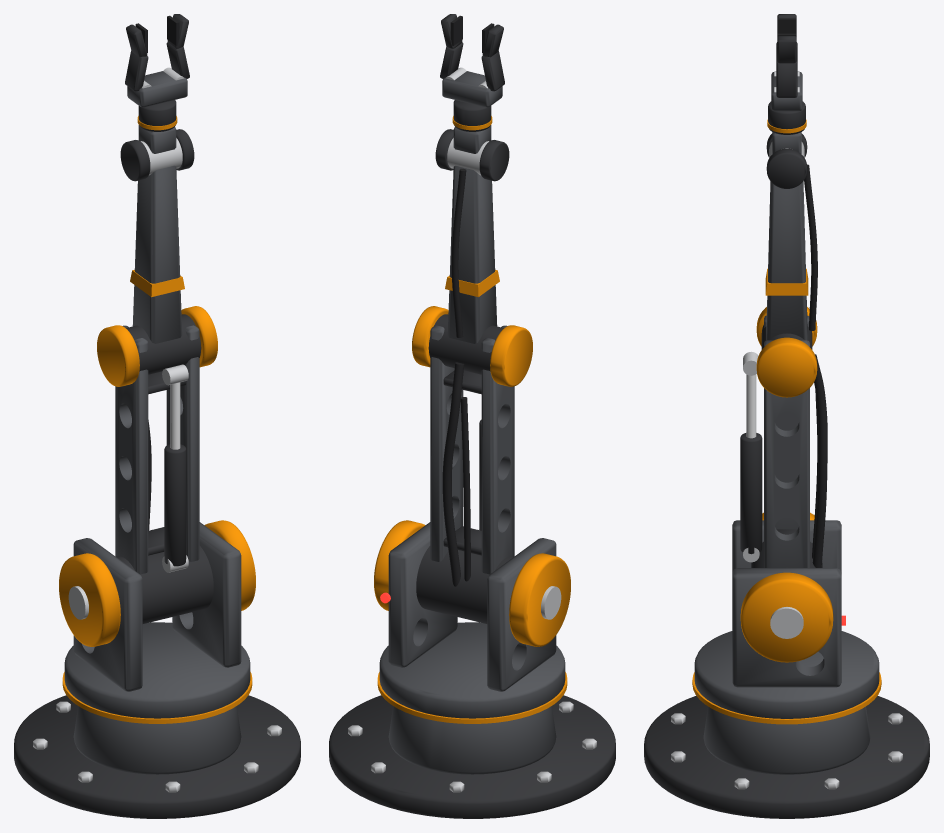
Rendered from dume.glb.
3 renders of one model, left to right at view 1: azimuth 30°, elevation 25°; view 2: azimuth 150°, elevation 25°; view 3: azimuth 270°, elevation 25°, orthographic.
Visible parts, largest first — view 1: dume_yaw, dume_base, dume_upper, dume_fore, dume_roll, dume_wrist, dume_finger_b, dume_finger_a; view 2: dume_yaw, dume_base, dume_upper, dume_fore, dume_roll, dume_wrist, dume_finger_b, dume_finger_a; view 3: dume_base, dume_yaw, dume_upper, dume_fore, dume_roll, dume_finger_a, dume_wrist.
Boxes of the visible parts, x1,y1,x2,y2 form: dume_yaw: (59, 520, 255, 723); dume_base: (14, 695, 300, 818); dume_upper: (97, 306, 217, 623); dume_fore: (120, 129, 201, 374); dume_roll: (127, 71, 187, 131); dume_wrist: (138, 125, 182, 175); dume_finger_b: (125, 23, 151, 91); dume_finger_a: (163, 14, 189, 80); dume_yaw: (374, 520, 570, 723); dume_base: (329, 695, 615, 818); dume_upper: (412, 306, 532, 623); dume_fore: (428, 129, 509, 374); dume_roll: (442, 71, 502, 131); dume_wrist: (447, 125, 491, 175); dume_finger_b: (478, 23, 504, 91); dume_finger_a: (440, 14, 466, 80); dume_base: (644, 696, 929, 818); dume_yaw: (692, 512, 881, 724); dume_upper: (740, 307, 827, 567); dume_fore: (761, 133, 817, 349); dume_roll: (767, 72, 806, 134); dume_finger_a: (774, 33, 799, 97); dume_wrist: (769, 132, 804, 157).
Size of the model in its own units: 0.68 by 1.93 by 0.68.
